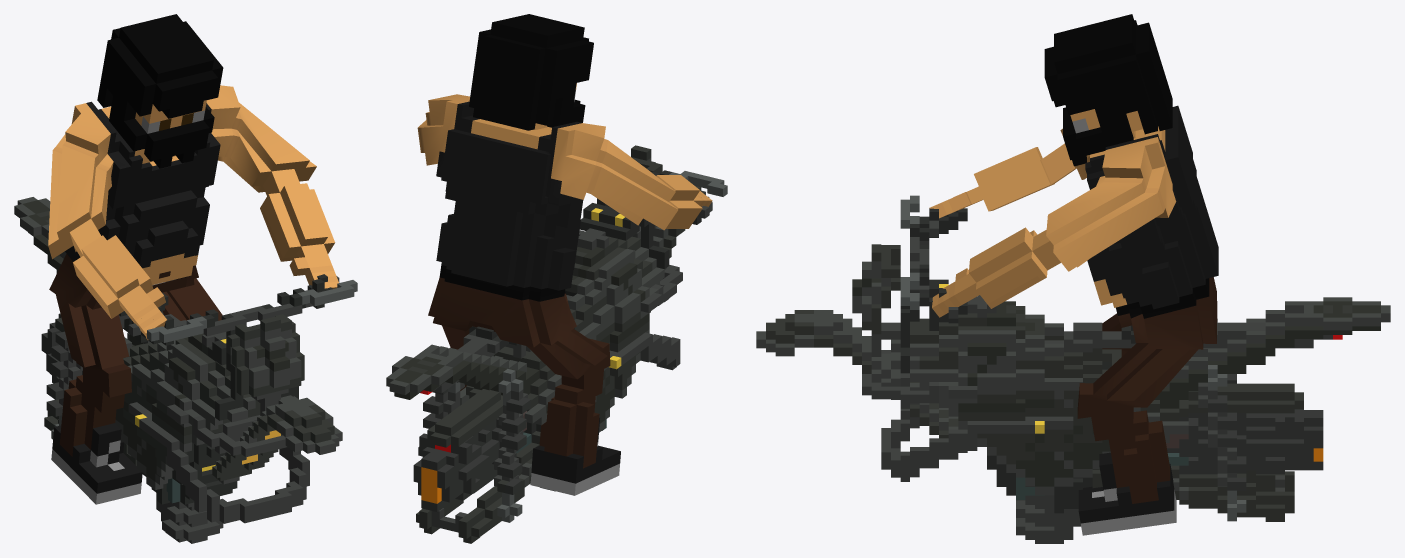
File: OnCross.obj
3 renders of one model, left to right at view 1: azimuth 30°, elevation 25°; view 2: azimuth 150°, elevation 25°; view 3: azimuth 270°, elevation 25°, orthographic. The views are drawn at different scales.
Bounding box in the file's own units: 4.66 × 8.27 × 9.36.
Materials: 2 (2 with a texture image).
